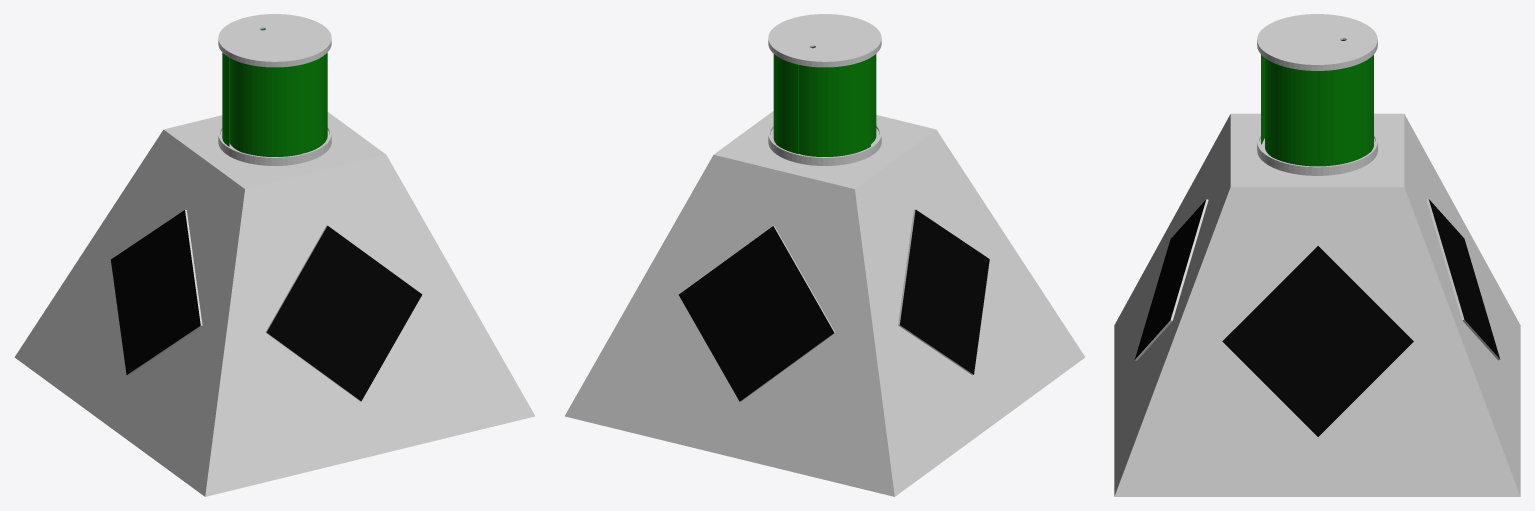
File: ColourIndicatorGreen.dae
3 views of the same model, side by side, from view 1: azimuth 30°, elevation 25°; view 2: azimuth 150°, elevation 25°; view 3: azimuth 270°, elevation 25° (orthographic). The views are drawn at different scales.
Visible parts, largest first — view 1: ColourIndicatorGreenAssembly; view 2: ColourIndicatorGreenAssembly; view 3: ColourIndicatorGreenAssembly.
Part boxes in pixels (x1,y1,x2,y2): ColourIndicatorGreenAssembly: (14,14,534,496); ColourIndicatorGreenAssembly: (565,14,1085,496); ColourIndicatorGreenAssembly: (1114,14,1520,496).
Size of the model in its own units: 430 by 430 by 434.
